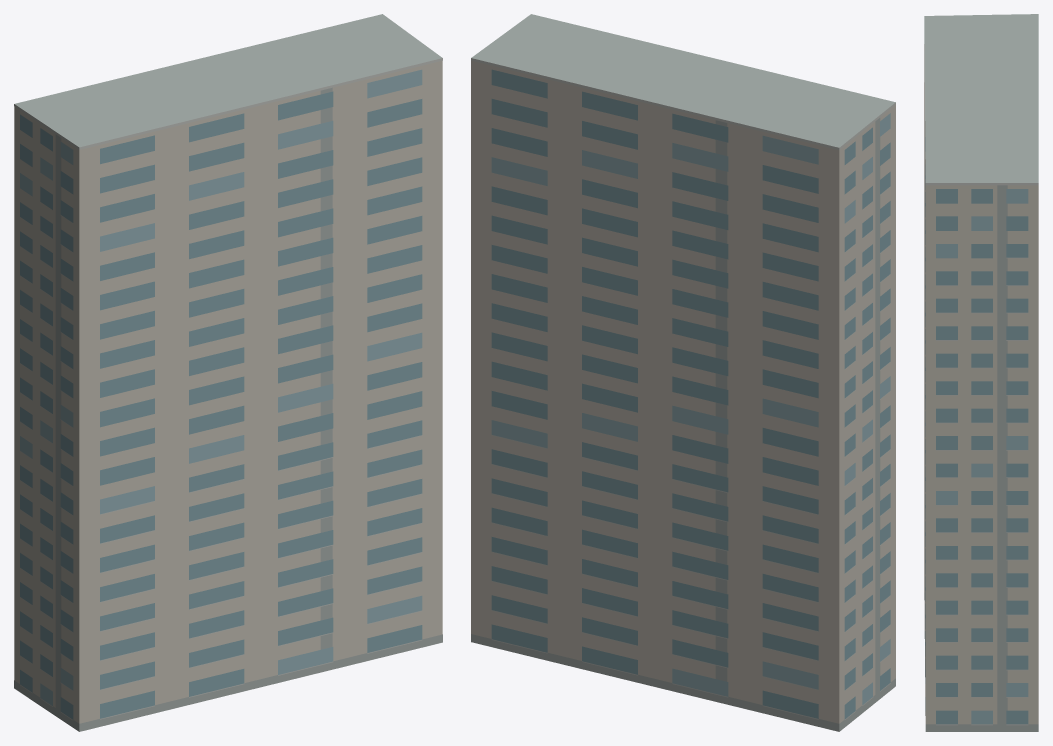
Rendered from residential-6842a81e-1903-423d-a949-872230297a7e.glb.
3 renders of one model, left to right at view 1: azimuth 30°, elevation 25°; view 2: azimuth 150°, elevation 25°; view 3: azimuth 270°, elevation 25°, orthographic. The views are drawn at different scales.
Visible parts, largest first — view 1: residential-6842a81e-1903-423d-a949-872230297a7e.tmp; view 2: residential-6842a81e-1903-423d-a949-872230297a7e.tmp; view 3: residential-6842a81e-1903-423d-a949-872230297a7e.tmp.
Part boxes in pixels (box(x1,y1,x2,y2)): residential-6842a81e-1903-423d-a949-872230297a7e.tmp: box(14, 14, 442, 731); residential-6842a81e-1903-423d-a949-872230297a7e.tmp: box(471, 14, 895, 731); residential-6842a81e-1903-423d-a949-872230297a7e.tmp: box(924, 14, 1038, 731).
Size of the model in its own units: 36.97 by 56 by 10.6.
